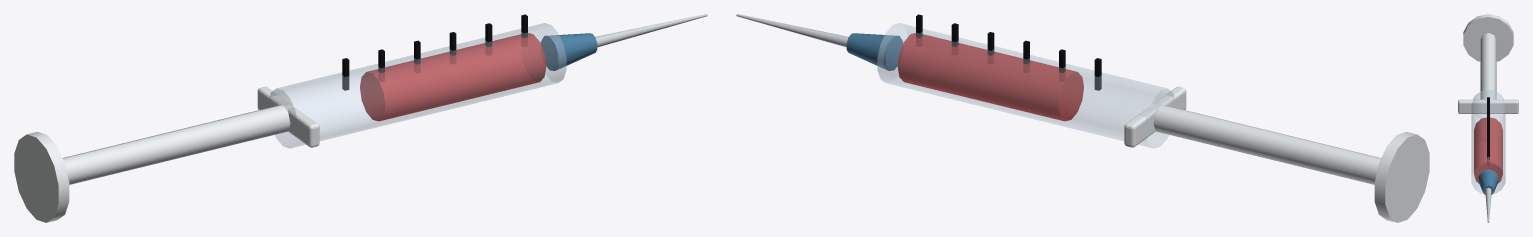
File: Syringe.glb
3 renders of one model, left to right at view 1: azimuth 30°, elevation 25°; view 2: azimuth 150°, elevation 25°; view 3: azimuth 270°, elevation 25°, orthographic. The views are drawn at different scales.
Visible parts, largest first — view 1: Barrel, Fluid, Plunger, ThumbRest, Hub.002, Flange, Needle; view 2: Barrel, Fluid, Plunger, ThumbRest, Hub.002, Flange, Needle; view 3: Barrel, ThumbRest, Fluid, Plunger, Flange, Hub.002, Needle, Mark.005.
Part boxes in pixels (box(x1,y1,x2,y2)): Barrel: box(268, 23, 566, 148); Fluid: box(360, 33, 546, 121); Plunger: box(62, 103, 294, 184); ThumbRest: box(14, 132, 69, 222); Hub.002: box(540, 33, 597, 70); Flange: box(257, 86, 319, 147); Needle: box(595, 14, 707, 47); Barrel: box(877, 23, 1175, 148); Fluid: box(897, 33, 1083, 121); Plunger: box(1149, 103, 1381, 184); ThumbRest: box(1374, 132, 1429, 222); Hub.002: box(846, 33, 903, 70); Flange: box(1124, 86, 1186, 147); Needle: box(736, 14, 848, 47); Barrel: box(1471, 89, 1505, 194); ThumbRest: box(1463, 14, 1513, 61); Fluid: box(1474, 117, 1502, 183); Plunger: box(1480, 33, 1496, 114); Flange: box(1458, 99, 1518, 113); Hub.002: box(1478, 169, 1498, 194); Needle: box(1485, 188, 1491, 222); Mark.005: box(1487, 146, 1489, 163).
Bounding box in the file's own units: 0.1875 × 0.0227 × 0.026.
